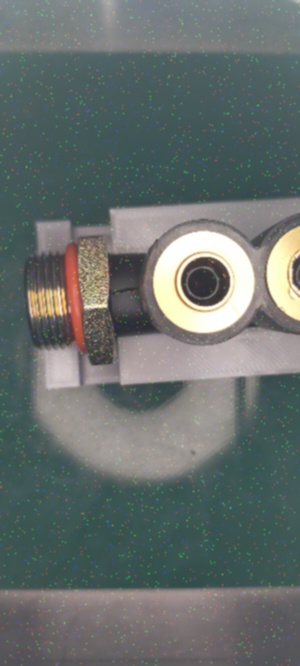craze: (111, 284, 140, 297)
